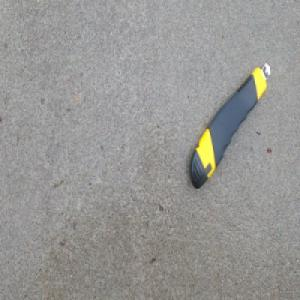Cutter: (188, 63, 271, 192)
